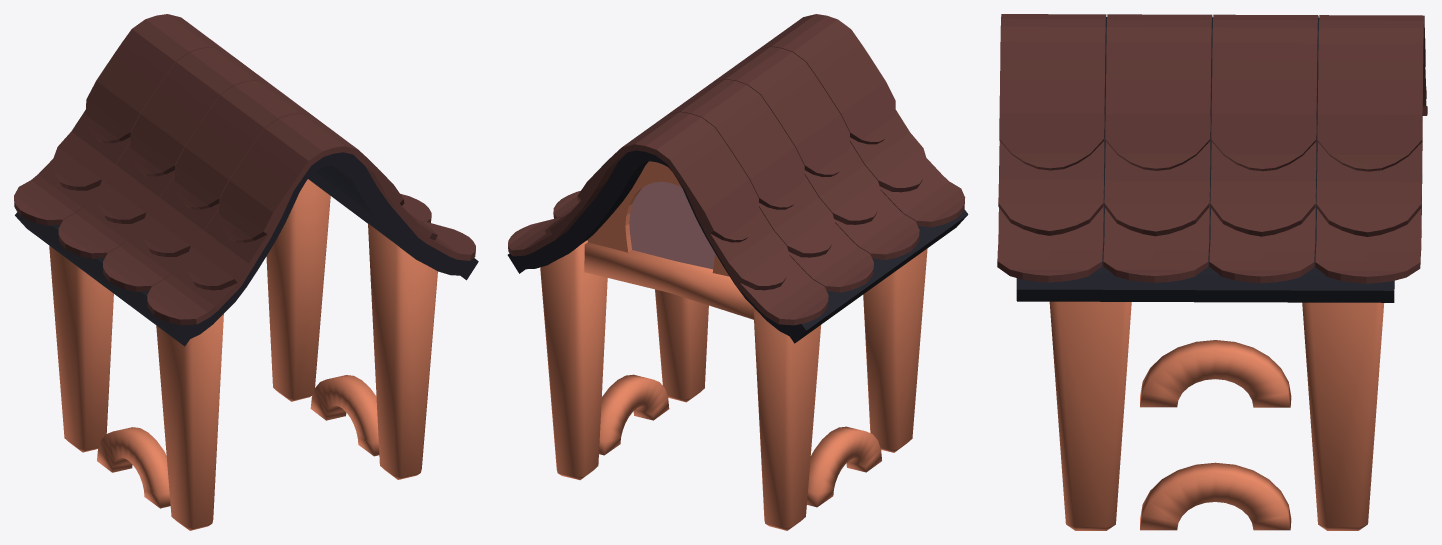
Rendered from 小房子.fbx.
3 renders of one model, left to right at view 1: azimuth 30°, elevation 25°; view 2: azimuth 150°, elevation 25°; view 3: azimuth 270°, elevation 25°, orthographic. The views are drawn at different scales.
Parts seen in each view (by area): view 1: wood.003; view 2: wood.003; view 3: wood.003.
Part boxes in pixels (x1,y1,x2,y2): wood.003: (14, 14, 478, 530); wood.003: (507, 14, 968, 530); wood.003: (997, 14, 1427, 530).
Size of the model in its own units: 209 by 242 by 211.
